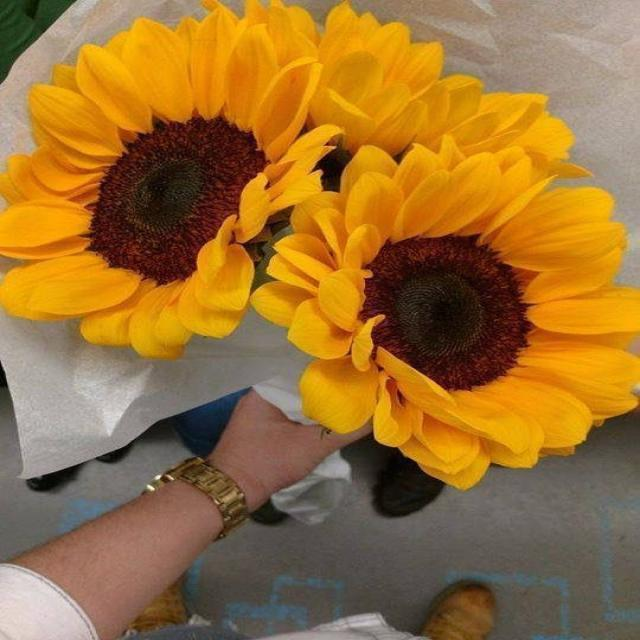sunflower: (249, 133, 639, 491), (0, 1, 341, 360), (202, 0, 592, 186)
